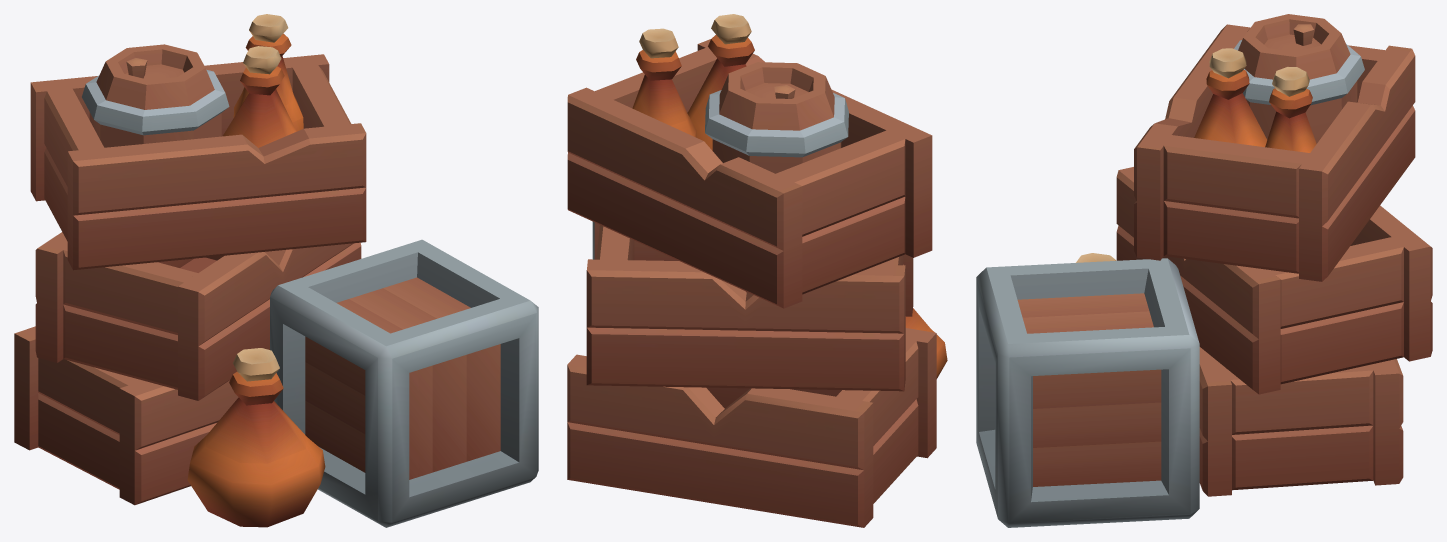
File: crates_stacked.gltf.glb
3 renders of one model, left to right at view 1: azimuth 30°, elevation 25°; view 2: azimuth 150°, elevation 25°; view 3: azimuth 270°, elevation 25°, orthographic. The views are drawn at different scales.
Visible parts, largest first — view 1: crates_stacked; view 2: crates_stacked; view 3: crates_stacked.
Boxes of the visible parts, <box> form: crates_stacked: <box>14,14,538,527</box>; crates_stacked: <box>567,14,947,527</box>; crates_stacked: <box>976,14,1432,527</box>.
Size of the model in its own units: 2.09 by 2.14 by 2.25.
Materials: 1 (1 with a texture image).
